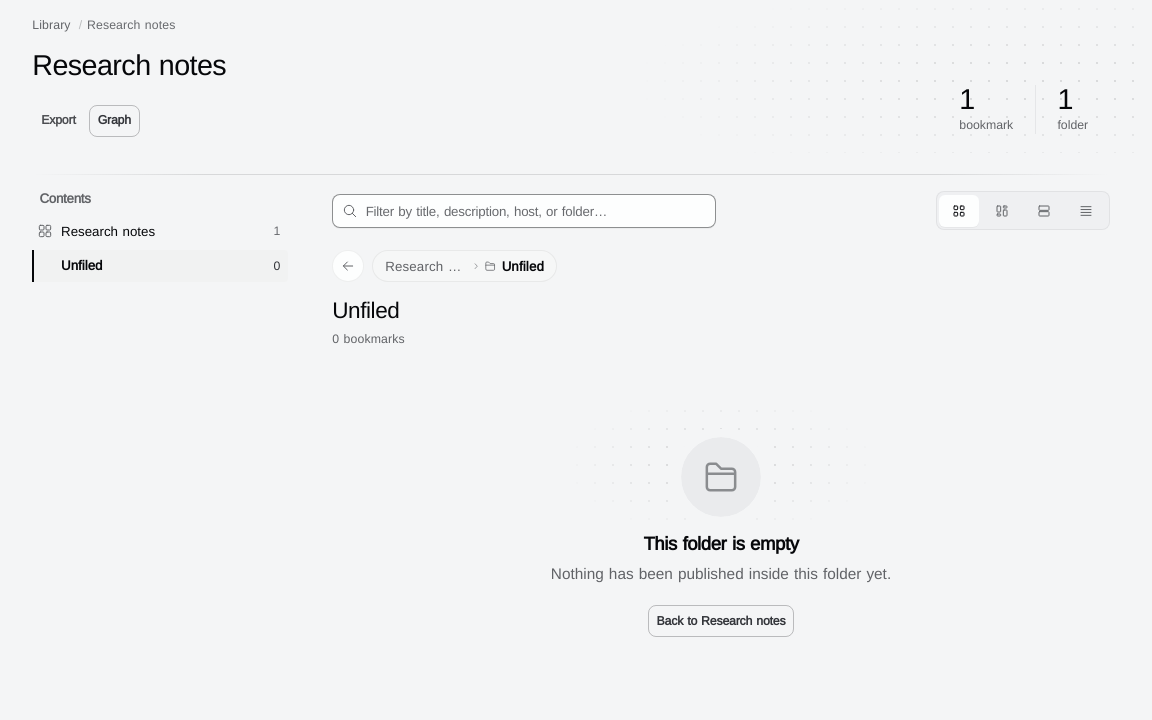
Test: public Collection page folder navigation › renders an empty state inside a folder with no published children
The width and height of the screenshot is (1152, 720).
Click the button "Back to Research notes".
click(721, 621)  # box top-left (648, 605), bottom-right (794, 637)
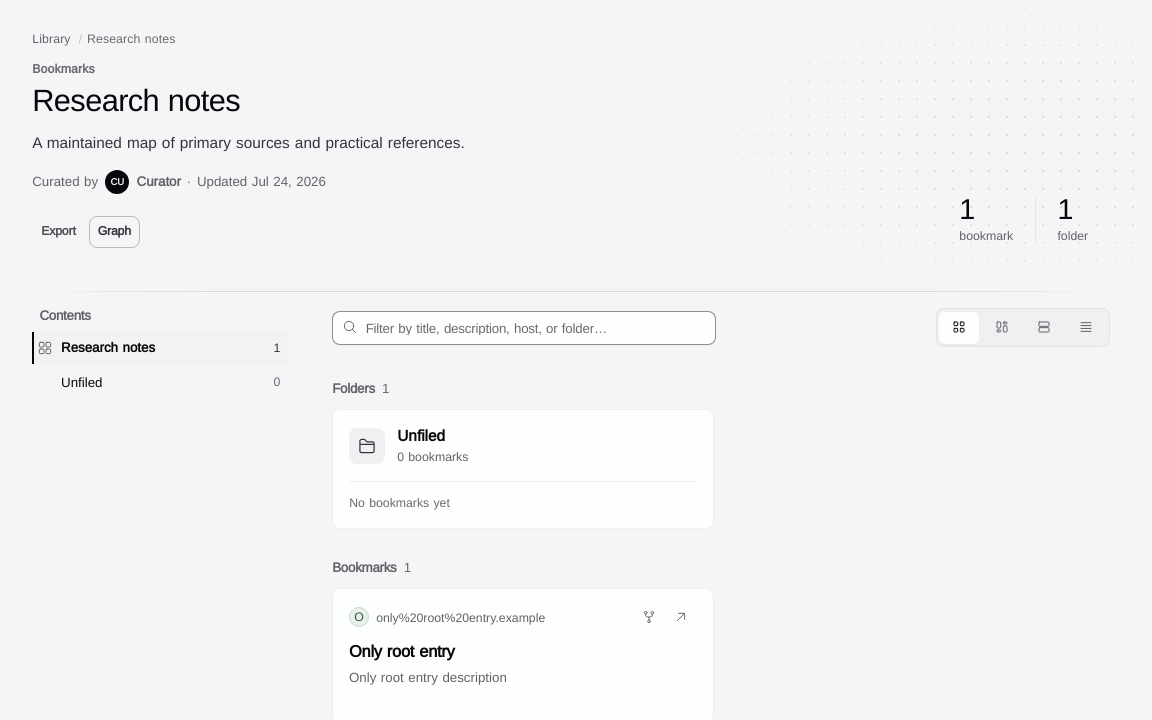
expect the text "Only root entry" is shown: met, box top-left (349, 641), bottom-right (455, 661)
